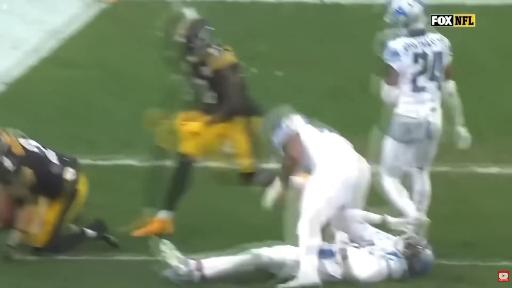Helmet: (175, 8, 214, 62), (263, 105, 303, 151), (397, 234, 434, 276), (384, 0, 426, 29)
Jersey: (383, 33, 452, 118), (0, 133, 78, 199), (319, 229, 407, 282), (287, 115, 359, 172), (188, 47, 241, 114)
Player: (132, 8, 260, 236), (380, 0, 471, 229), (265, 107, 370, 284), (0, 130, 118, 254), (278, 226, 433, 287)
